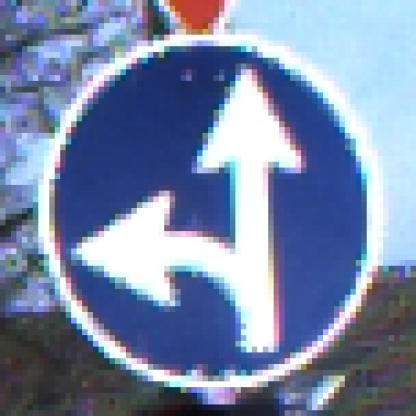Straight or Left: (39, 36, 384, 382)
